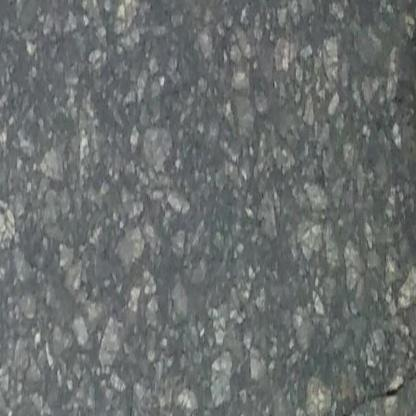Cracks: (309, 379, 403, 416)
